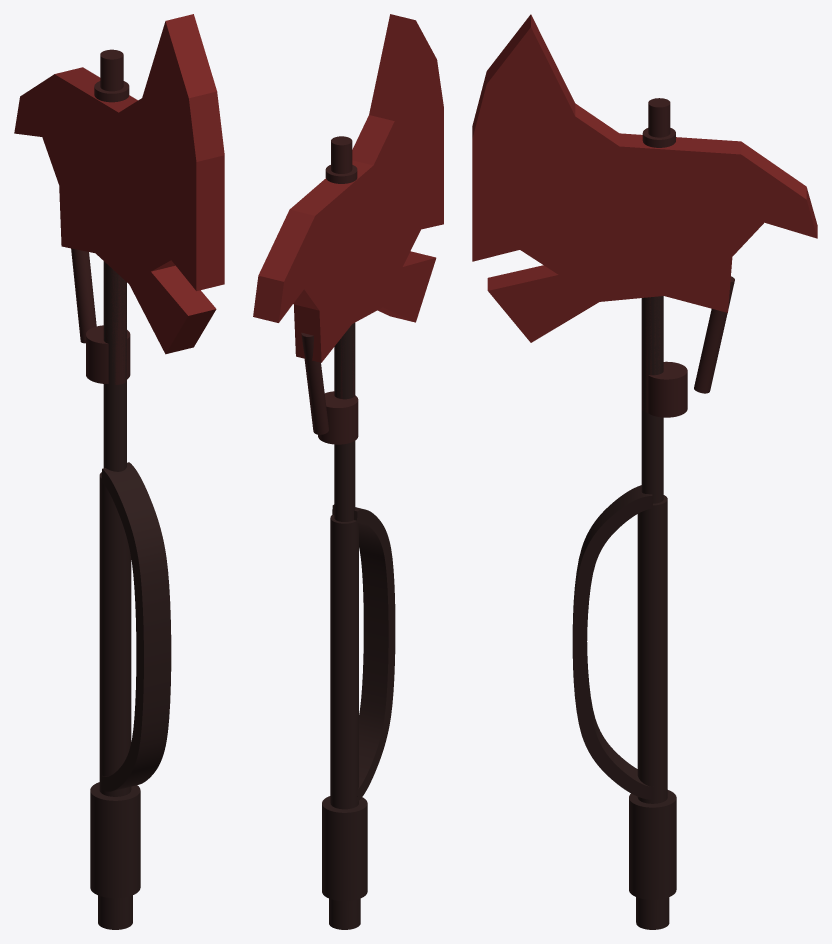
3 renders of one model, left to right at view 1: azimuth 30°, elevation 25°; view 2: azimuth 150°, elevation 25°; view 3: azimuth 270°, elevation 25°, orthographic. The views are drawn at different scales.
Parts seen in each view (by area): view 1: poleaxe; view 2: poleaxe; view 3: poleaxe.
Part boxes in pixels (bbox=[...]): poleaxe: bbox=[14, 14, 224, 929]; poleaxe: bbox=[253, 14, 443, 929]; poleaxe: bbox=[472, 14, 817, 929].
Size of the model in its own units: 0.043 by 0.8995 by 0.312.
